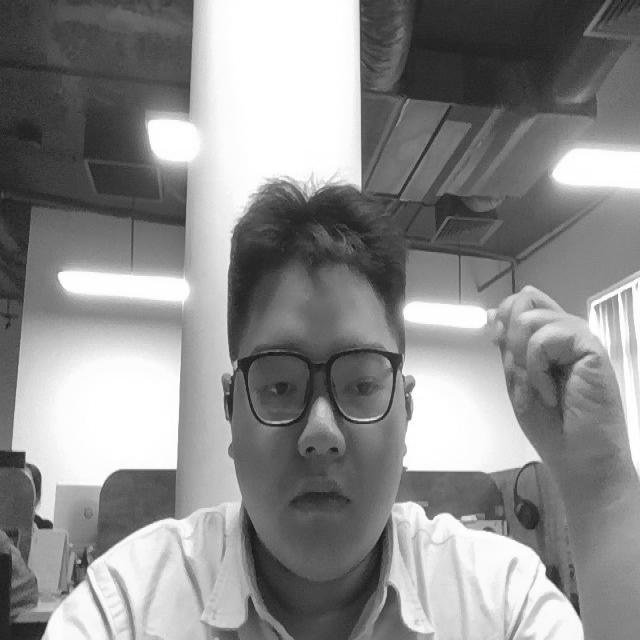real: (220, 174, 420, 583), (235, 345, 407, 429)
